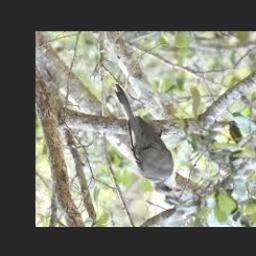Cuckoo: (115, 84, 181, 194)
